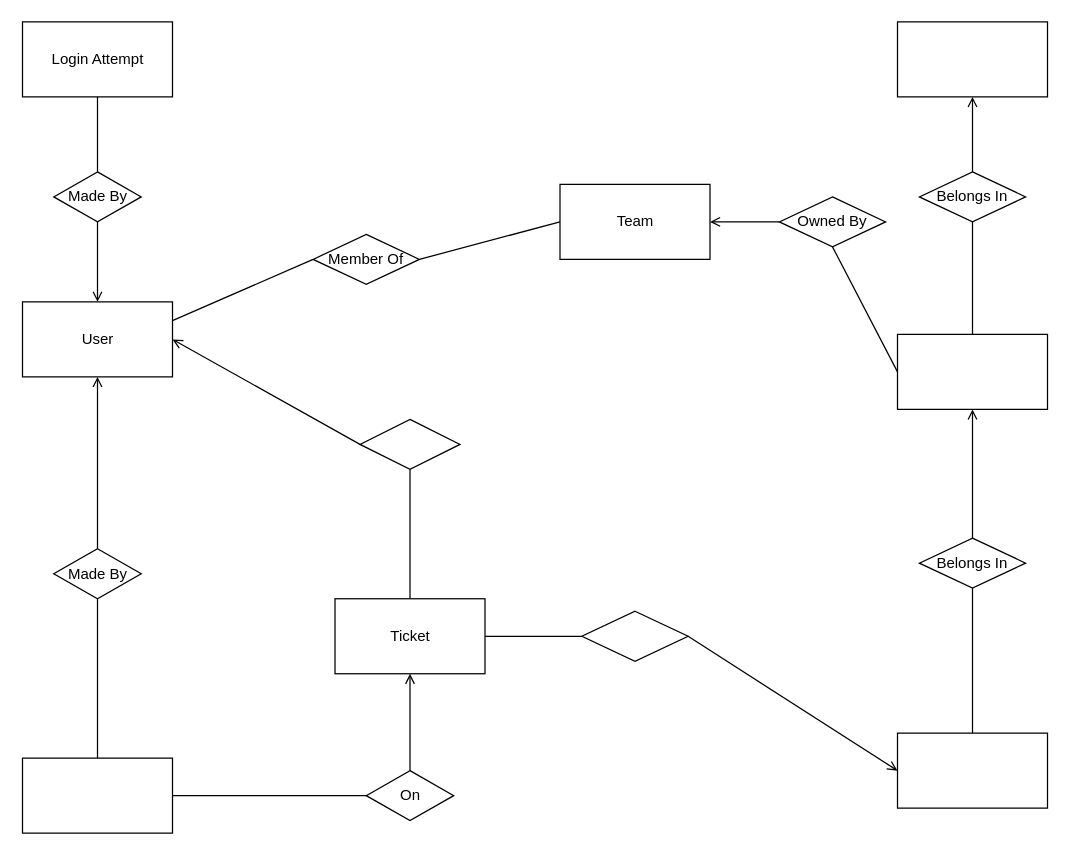
Image size: 1069x855. Some labels were removed from this diagram. The shapes that lost their labels are listed below. From the top down, each one's centre as x and y in pixels, then its label:
(x=972, y=59): Category
(x=972, y=371): Type
(x=409, y=443): Created By
(x=634, y=635): Belongs To
(x=972, y=770): Item
(x=96, y=795): Comment
